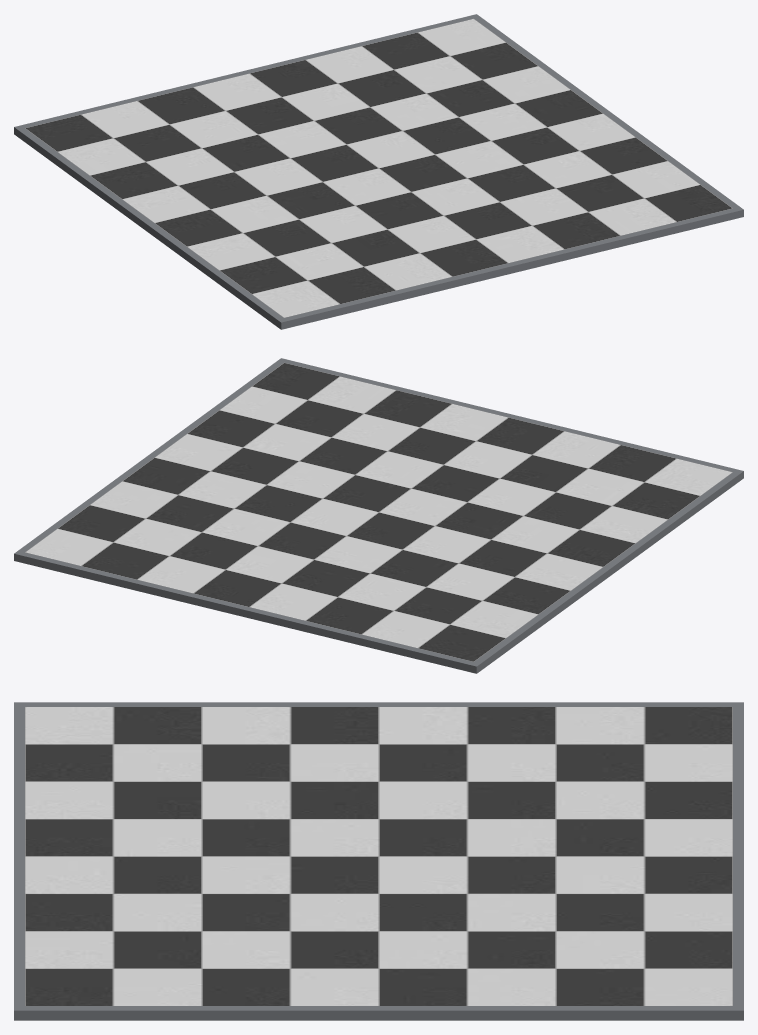
Rendered from modular-greybox-architecture-kit-grid-tile-4m-b5c036a3__22905.glb.
3 views of the same model, one above another, from view 1: azimuth 30°, elevation 25°; view 2: azimuth 150°, elevation 25°; view 3: azimuth 270°, elevation 25° (orthographic). The views are drawn at different scales.
Visible parts, largest first — view 1: grid-tile-4m; view 2: grid-tile-4m; view 3: grid-tile-4m.
Part boxes in pixels (<box>): grid-tile-4m: <box>14,14,743,329</box>; grid-tile-4m: <box>14,358,743,673</box>; grid-tile-4m: <box>14,702,743,1020</box>.
Size of the model in its own units: 4 by 0.0602 by 4.
2 materials, 1 textured.
